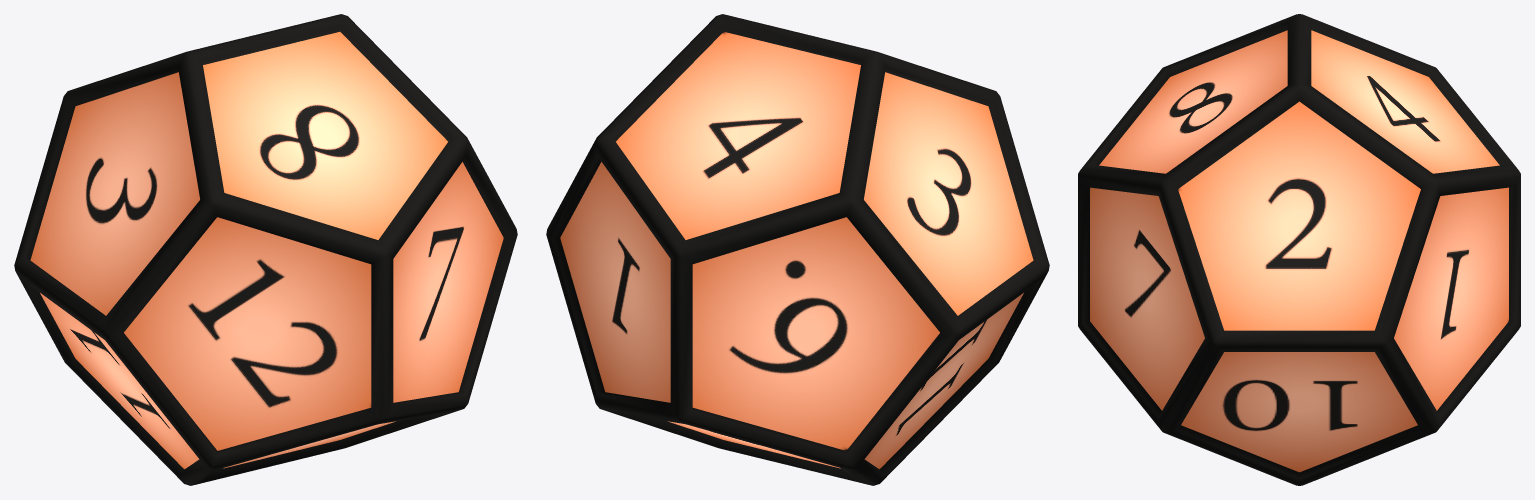
The model's file is crucible_d12.glb.
3 renders of one model, left to right at view 1: azimuth 30°, elevation 25°; view 2: azimuth 150°, elevation 25°; view 3: azimuth 270°, elevation 25°, orthographic. The views are drawn at different scales.
Visible parts, largest first — view 1: Mesh_0; view 2: Mesh_0; view 3: Mesh_0.
Boxes of the visible parts, x1,y1,x2,y2 form: Mesh_0: [14, 14, 517, 485]; Mesh_0: [546, 14, 1049, 485]; Mesh_0: [1078, 14, 1520, 485].
Bounding box in the file's own units: 167 × 167 × 167.
1 material, 1 textured.
